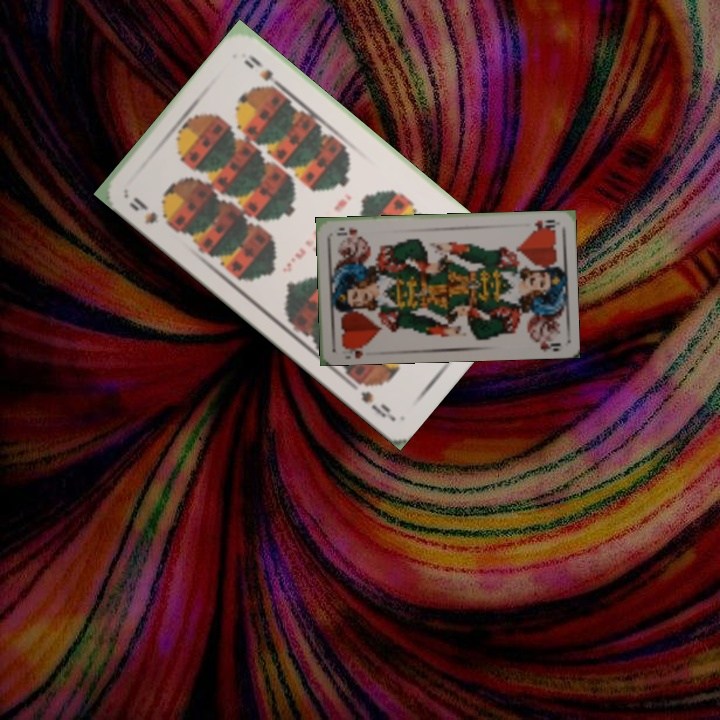HO: (338, 340, 369, 360), (529, 215, 558, 234)
S9: (124, 193, 174, 230)
